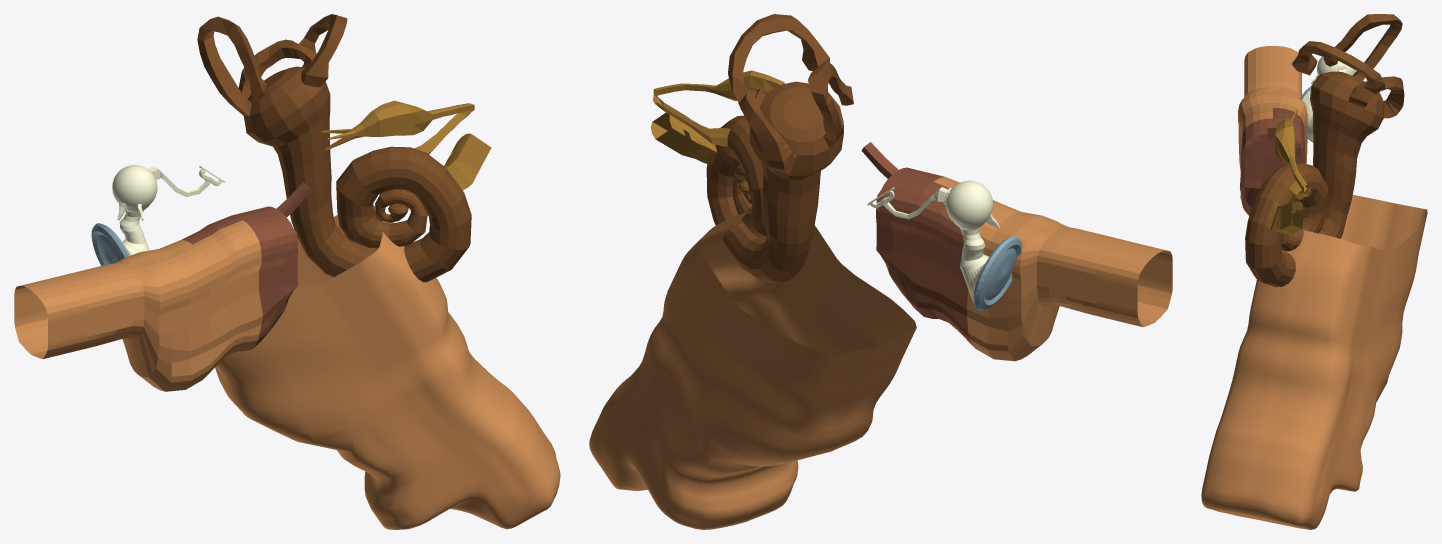
File: Ear Model Destroyable.FBX
3 renders of one model, left to right at view 1: azimuth 30°, elevation 25°; view 2: azimuth 150°, elevation 25°; view 3: azimuth 270°, elevation 25°, orthographic. The views are drawn at different scales.
Parts seen in each view (by area): view 1: Nerve cover001, Object002, Drum cover002, Drum; view 2: Nerve cover001, Drum cover002, Object002, Drum; view 3: Nerve cover001, Object002, Drum cover002, Drum.
Boxes of the visible parts, box(x1,y1,x2,y2) form: Nerve cover001: box(215, 205, 560, 529); Object002: box(197, 14, 491, 282); Drum cover002: box(14, 182, 311, 391); Drum: box(91, 165, 225, 265); Nerve cover001: box(589, 211, 916, 529); Drum cover002: box(861, 142, 1172, 361); Object002: box(651, 14, 853, 282); Drum: box(867, 180, 1022, 310); Nerve cover001: box(1201, 195, 1427, 529); Object002: box(1245, 14, 1404, 287); Drum cover002: box(1238, 46, 1307, 215); Drum: box(1300, 56, 1355, 142).
Bounding box in the file's own units: 1198212 × 1080254 × 521628.
Materials: 10 (10 with a texture image).
